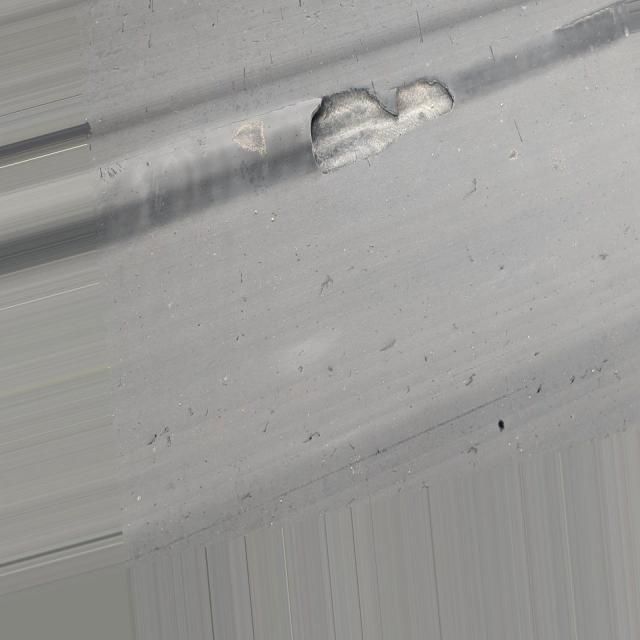Tear: (300, 63, 463, 174)
impact damage: (116, 0, 611, 243)
